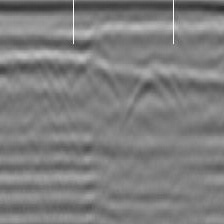Utility: (74, 51, 121, 109), (127, 66, 183, 114)
